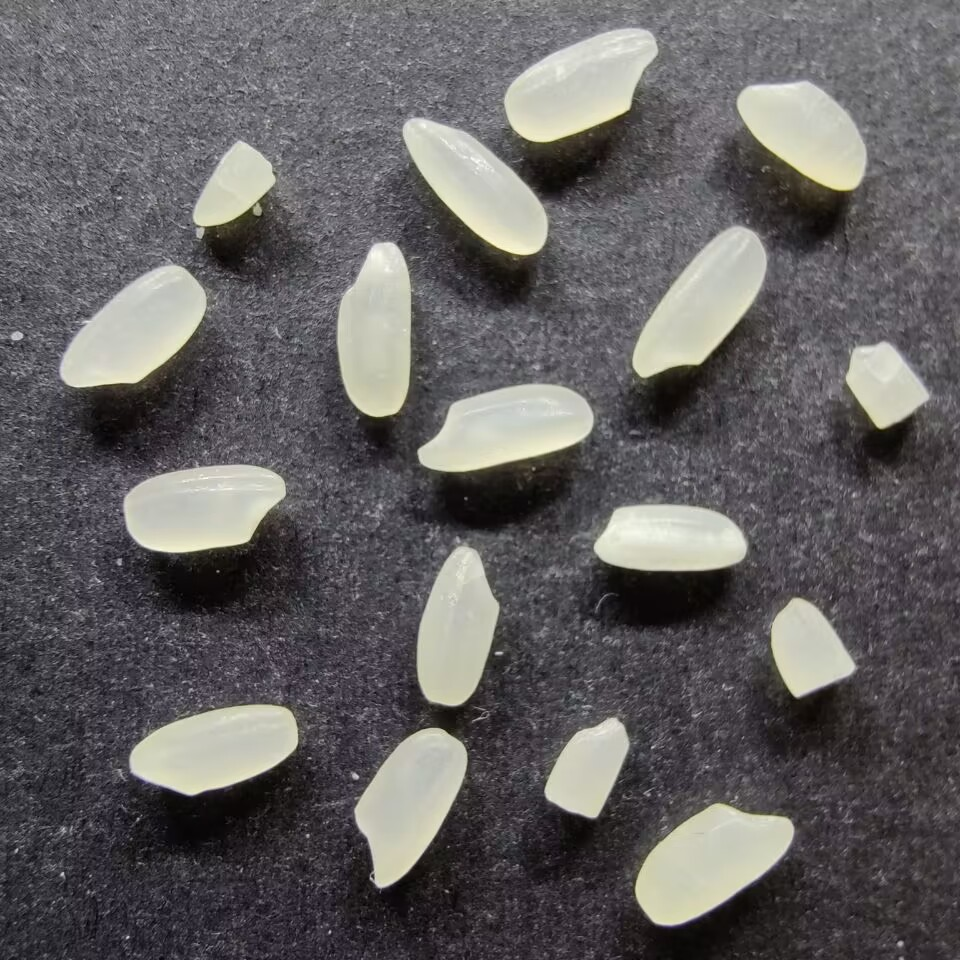broken: (768, 596, 860, 700), (541, 714, 629, 820), (843, 338, 931, 430), (190, 138, 278, 229)
rice: (629, 223, 769, 379), (399, 116, 550, 257), (632, 800, 797, 927), (351, 725, 469, 890), (57, 263, 207, 389), (502, 25, 659, 143), (126, 702, 299, 798), (415, 382, 593, 472), (121, 462, 287, 555), (735, 80, 868, 192), (414, 545, 501, 708), (334, 241, 414, 418), (591, 503, 748, 573)
